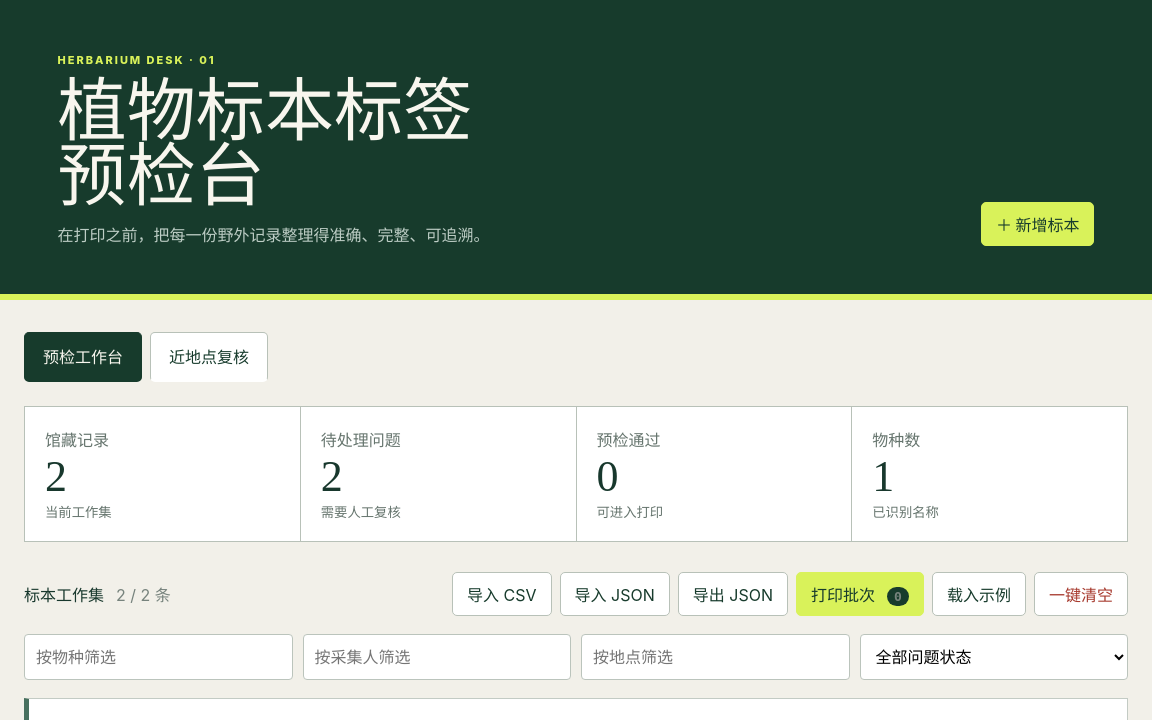
近地点复核工作区 › 采集编号相同的记录不进入近地点复核，仍由“采集编号重复”问题处理
Click the button "近地点复核".
click(209, 357)  # box [150, 332, 268, 382]
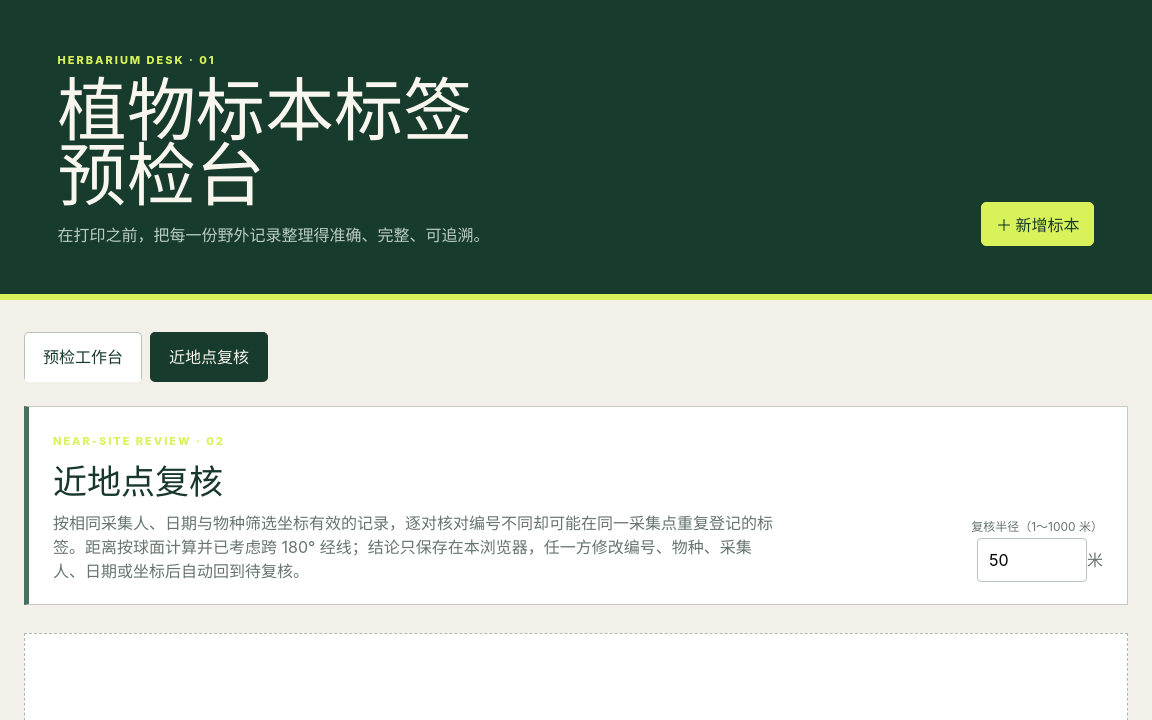
Replace the text in the field named "复核半径，单位米" with "1000" at point(1032, 560), box [977, 538, 1087, 582]
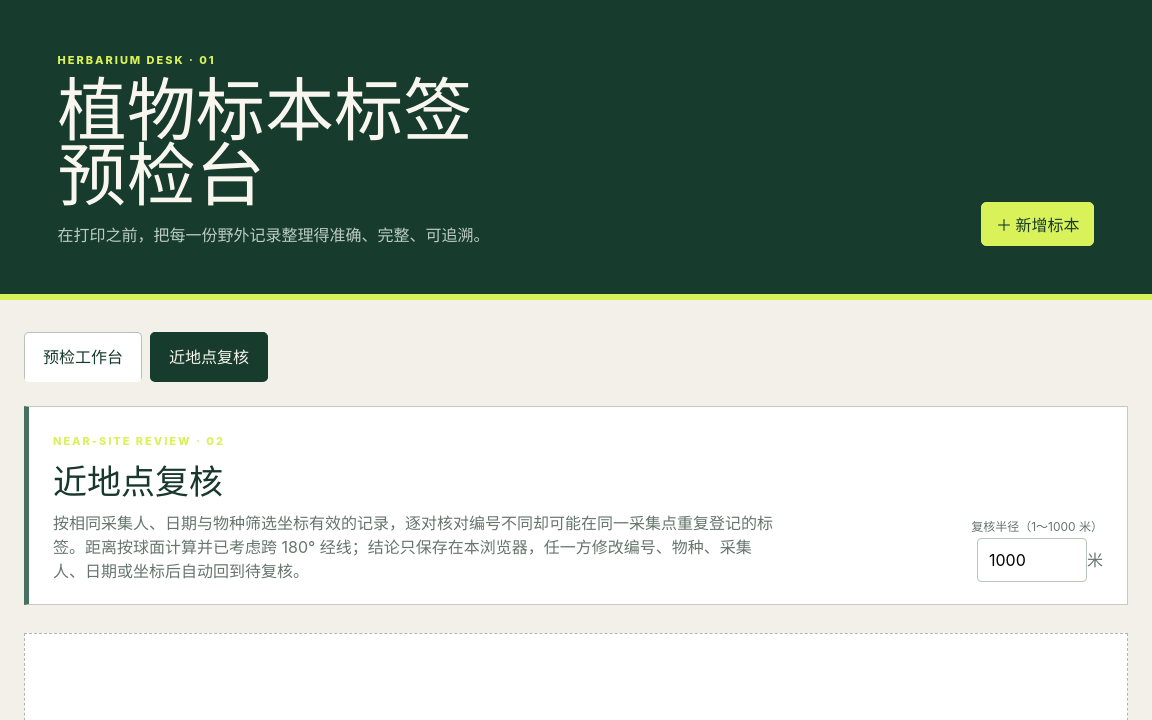
Click the button "预检工作台".
click(83, 357)  # box [24, 332, 142, 382]
(page scrolled)
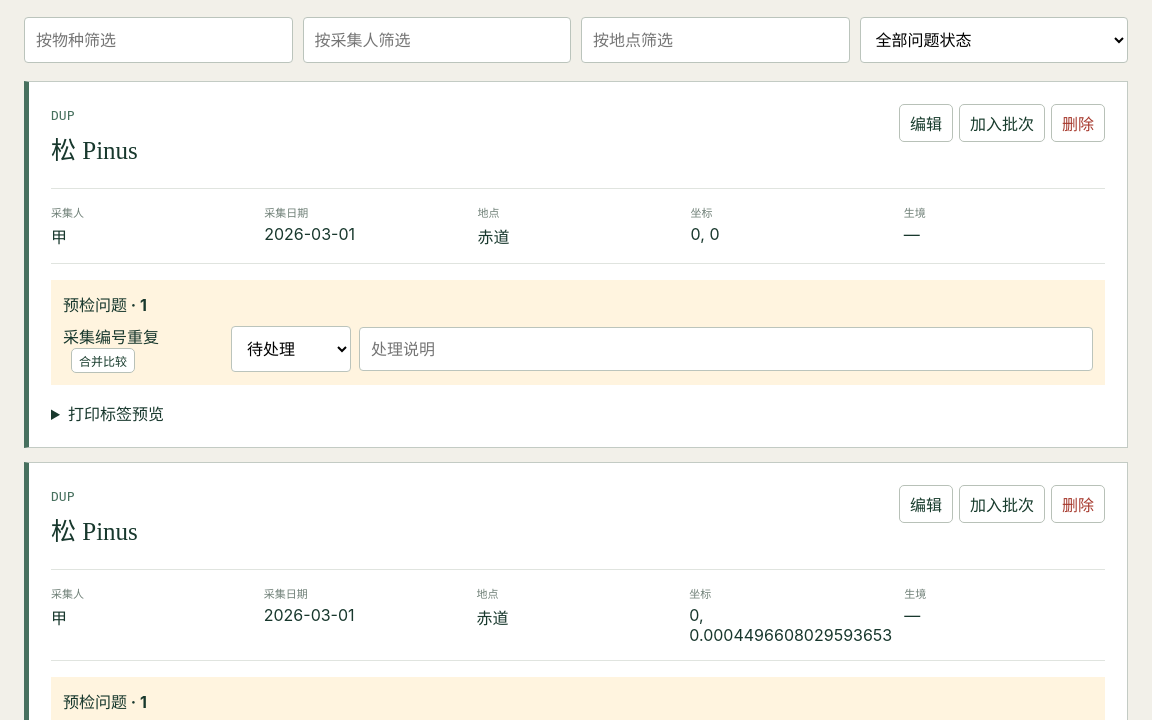
Now the element with class "record" shows "采集编号重复", box [63, 327, 159, 347]
Now the button "合并比较" is shown, box [71, 348, 135, 373]
